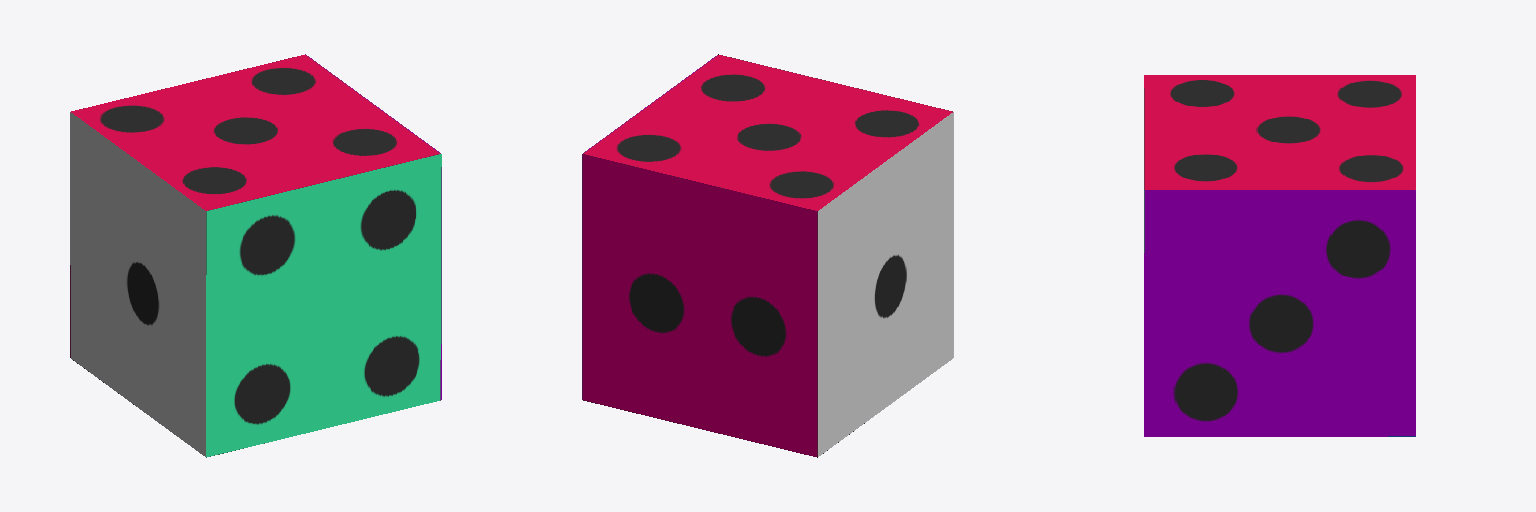
3 views of the same model, side by side, from view 1: azimuth 30°, elevation 25°; view 2: azimuth 150°, elevation 25°; view 3: azimuth 270°, elevation 25° (orthographic).
Visible parts, largest first — view 1: Cube; view 2: Cube; view 3: Cube.
Part boxes in pixels (left/top/right/bottom): Cube: left=70, top=54, right=441, bottom=457; Cube: left=582, top=54, right=953, bottom=457; Cube: left=1144, top=75, right=1415, bottom=436.
Bounding box in the file's own units: 2 × 2 × 2.
1 materials, 1 textured.